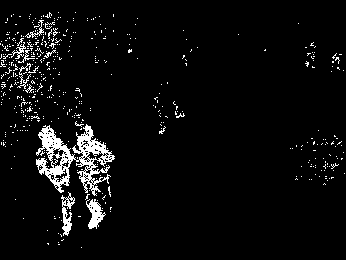person: (71, 122, 116, 231), (35, 124, 74, 236)
